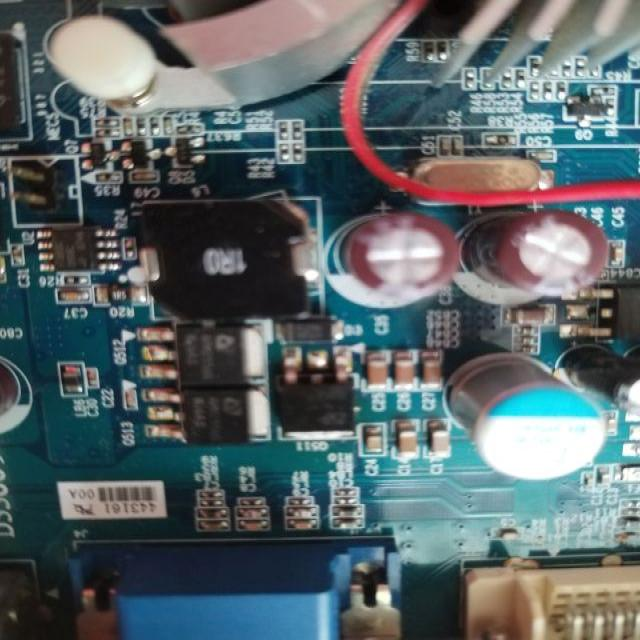capacitor: (422, 410, 458, 466), (353, 420, 392, 469), (357, 344, 388, 396)
